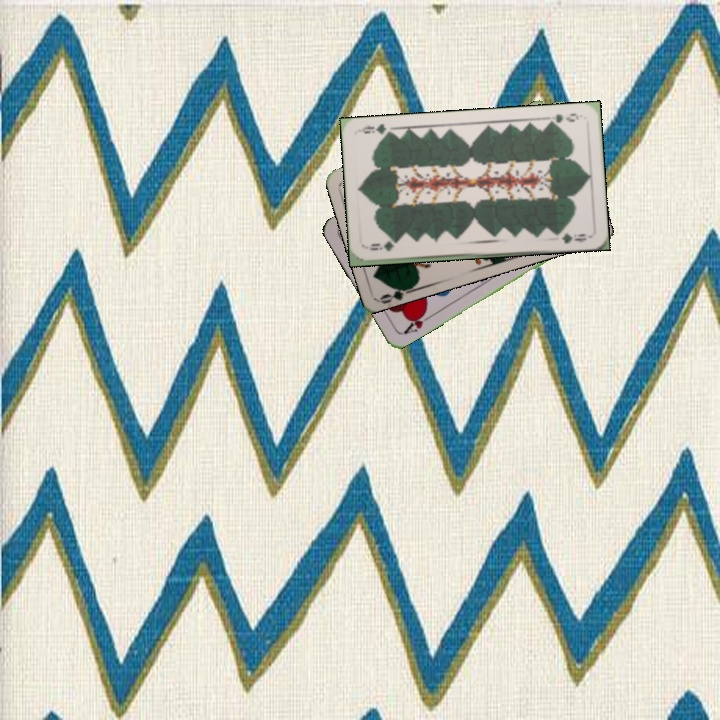G9: (544, 109, 581, 128), (365, 239, 397, 253)
GO: (377, 282, 417, 305)
HA: (397, 307, 434, 337)
